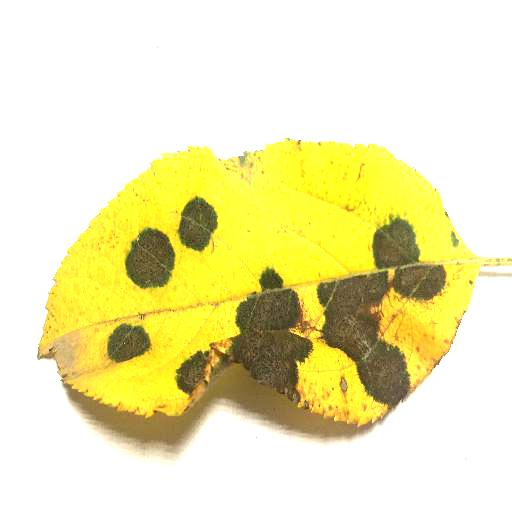Brown_Spot: (314, 277, 406, 410), (234, 276, 303, 396), (125, 235, 175, 284), (373, 223, 421, 264), (177, 203, 215, 248), (398, 264, 448, 298), (175, 343, 208, 393), (108, 324, 147, 357)
